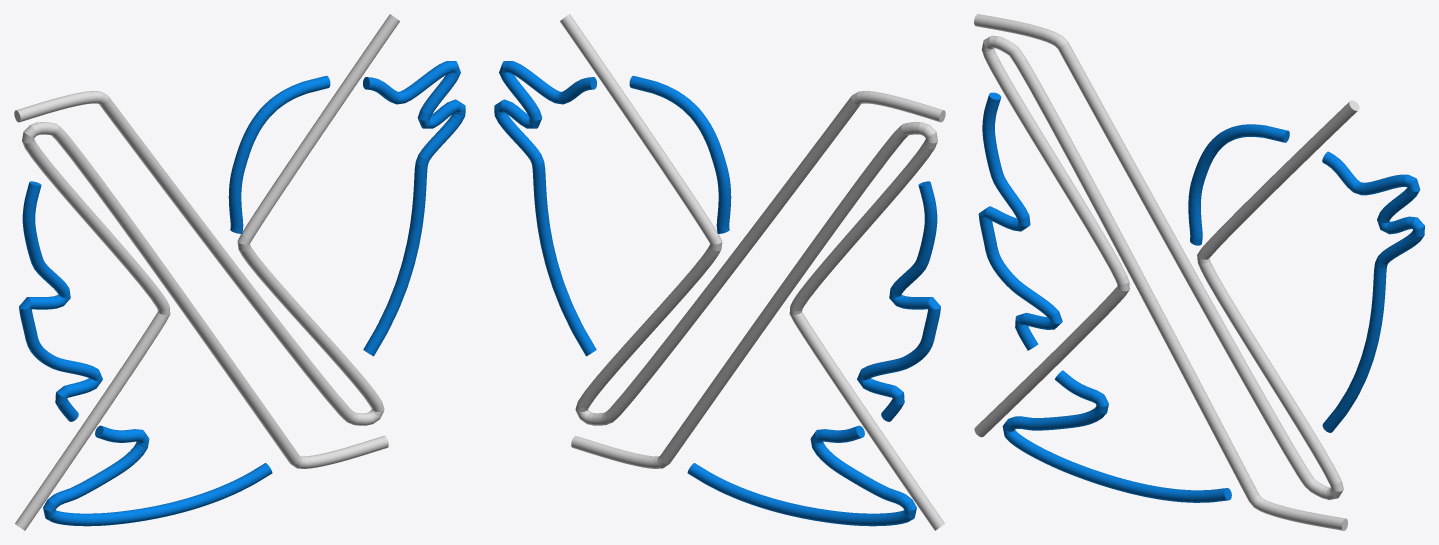
Rendered from Neon_Twitex.fbx.
3 views of the same model, side by side, from view 1: azimuth 30°, elevation 25°; view 2: azimuth 150°, elevation 25°; view 3: azimuth 330°, elevation 25° (orthographic).
Parts seen in each view (by area): view 1: x.001, x, Cylinder, Cylinder.001, Cylinder.002, Cylinder.003; view 2: x.001, x, Cylinder, Cylinder.001, Cylinder.002, Cylinder.003; view 3: x.001, x, Cylinder, Cylinder.001, Cylinder.002, Cylinder.003.
Boxes of the visible parts, x1,y1,x2,y2 form: x.001: (15, 122, 388, 530); x: (14, 14, 399, 425); Cylinder: (363, 61, 465, 356); Cylinder.001: (43, 425, 272, 526); Cylinder.002: (19, 181, 102, 421); Cylinder.003: (228, 75, 330, 233); x.001: (571, 122, 944, 530); x: (560, 14, 945, 425); Cylinder: (494, 61, 596, 356); Cylinder.001: (687, 425, 916, 526); Cylinder.002: (857, 181, 940, 421); Cylinder.003: (629, 75, 731, 233); x.001: (974, 35, 1347, 530); x: (974, 14, 1359, 499); Cylinder: (1322, 151, 1424, 432); Cylinder.001: (1002, 370, 1231, 502); Cylinder.002: (978, 92, 1062, 350); Cylinder.003: (1188, 124, 1289, 245).
Bounding box in the file's own units: 822 × 780 × 20.
